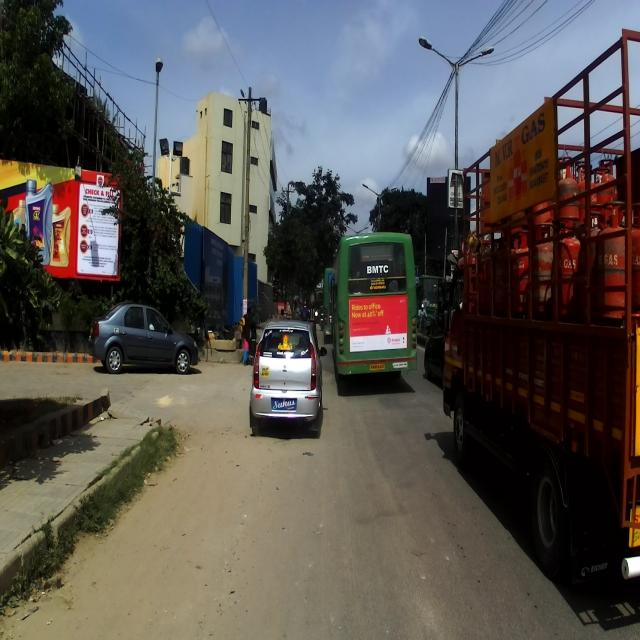bus: (332, 235, 418, 392)
car: (249, 319, 326, 437), (88, 300, 198, 377)
truck: (440, 28, 639, 588)
